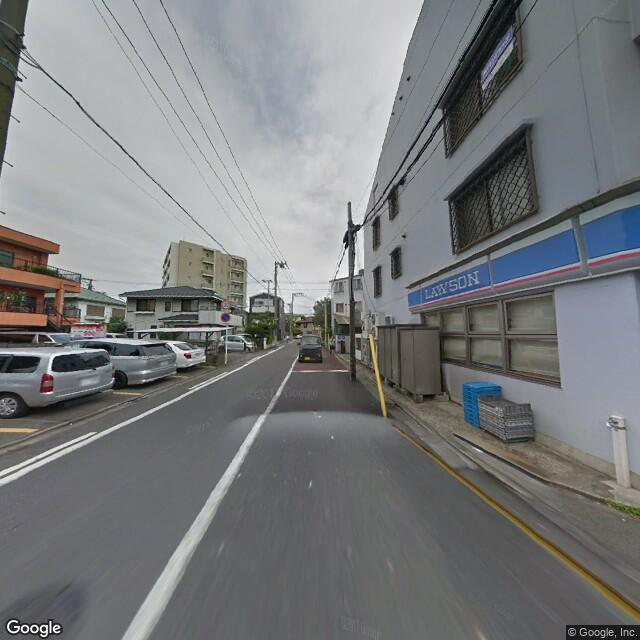lawson: (406, 202, 639, 314)
